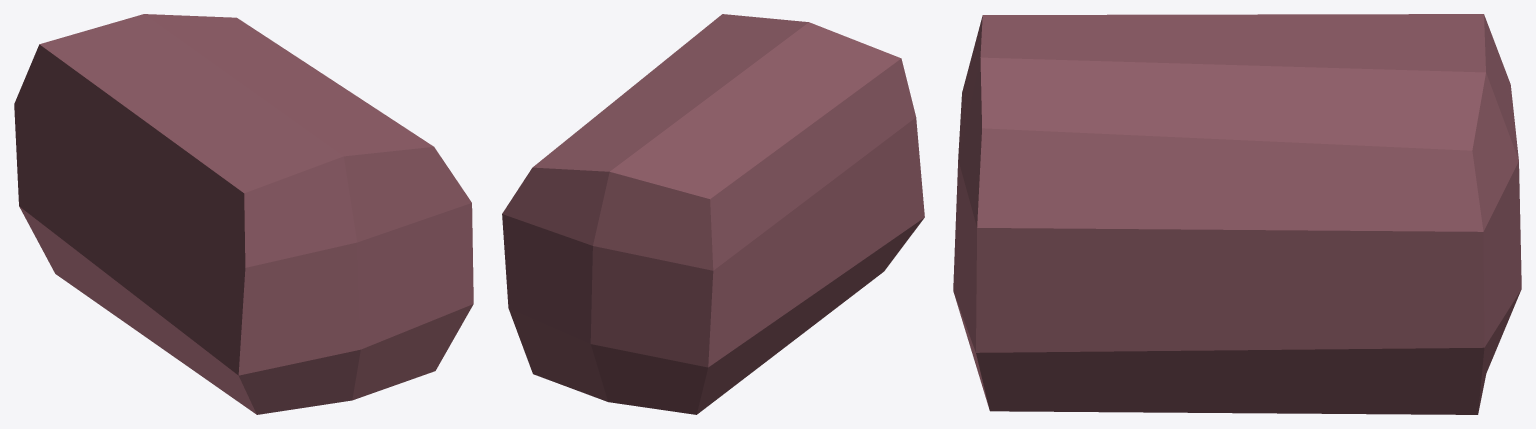
The model's file is Rock_09_Wall_B 1.fbx.
The picture shows the model from 3 angles, left to right: view 1: azimuth 30°, elevation 25°; view 2: azimuth 150°, elevation 25°; view 3: azimuth 270°, elevation 25°; orthographic projection. The views are drawn at different scales.
Visible parts, largest first — view 1: Rock_09_Wall_B; view 2: Rock_09_Wall_B; view 3: Rock_09_Wall_B.
Part boxes in pixels (x1=…): Rock_09_Wall_B: x1=14, y1=14, x2=473, y2=414; Rock_09_Wall_B: x1=502, y1=14, x2=924, y2=414; Rock_09_Wall_B: x1=953, y1=14, x2=1521, y2=414.
Bounding box in the file's own units: 28.52 × 28.51 × 47.11.
